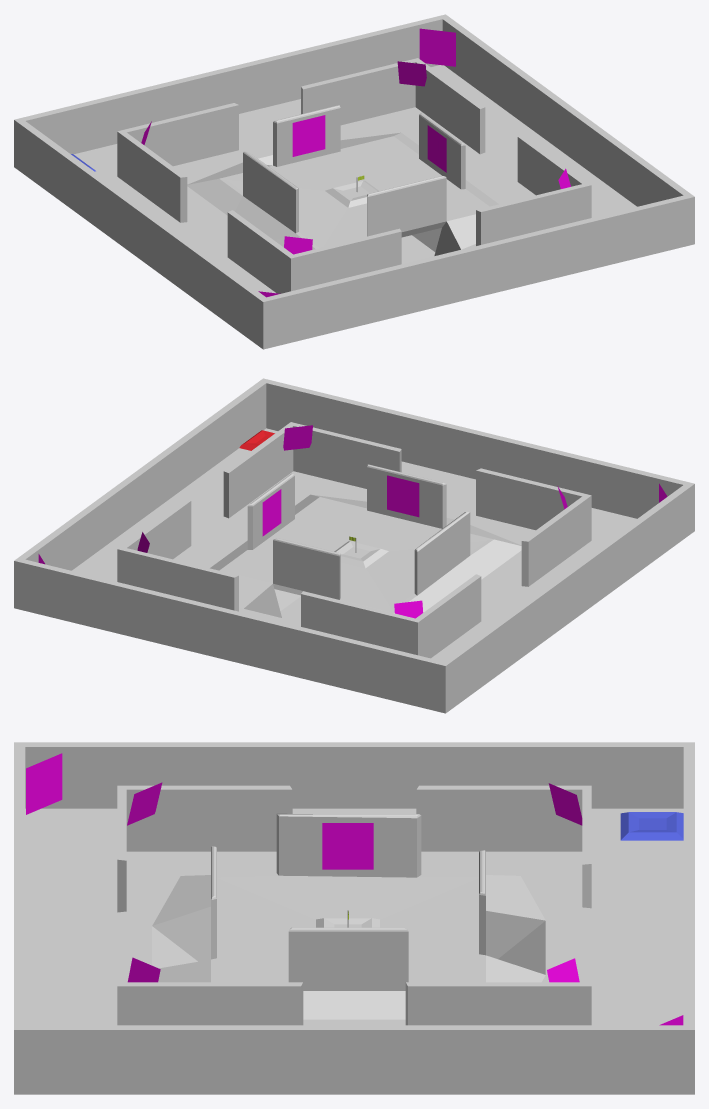
File: module_1.glb
3 renders of one model, top to bottom at view 1: azimuth 30°, elevation 25°; view 2: azimuth 150°, elevation 25°; view 3: azimuth 270°, elevation 25°, orthographic. The views are drawn at different scales.
Parts seen in each view (by area): view 1: SCENE, TUNNEL, MIRROR_0, MIRROR_4, MIRROR_3, MIRROR_7; view 2: SCENE, TUNNEL, MIRROR_5, MIRROR_3, MIRROR_6; view 3: SCENE, TUNNEL, MIRROR_2, SO_SPAWN_T0_INCLUDEMESH, MIRROR_1, MIRROR_8, MIRROR_9, MIRROR_6, MIRROR_7.
Part boxes in pixels (left/top/right/bottom): SCENE: left=14, top=14, right=694, bottom=349; TUNNEL: left=258, top=155, right=460, bottom=263; MIRROR_0: left=419, top=28, right=455, bottom=66; MIRROR_4: left=292, top=115, right=325, bottom=156; MIRROR_3: left=427, top=125, right=446, bottom=172; MIRROR_7: left=397, top=61, right=426, bottom=86; SCENE: left=14, top=378, right=694, bottom=713; TUNNEL: left=244, top=518, right=454, bottom=622; MIRROR_5: left=387, top=475, right=419, bottom=517; MIRROR_3: left=262, top=489, right=281, bottom=536; MIRROR_6: left=283, top=425, right=312, bottom=450; SCENE: left=14, top=742, right=694, bottom=1094; TUNNEL: left=152, top=906, right=545, bottom=974; MIRROR_2: left=322, top=823, right=373, bottom=869; SO_SPAWN_T0_INCLUDEMESH: left=620, top=812, right=683, bottom=840; MIRROR_1: left=26, top=753, right=62, bottom=814; MIRROR_8: left=127, top=782, right=162, bottom=825; MIRROR_9: left=548, top=783, right=582, bottom=825; MIRROR_6: left=127, top=957, right=160, bottom=982; MIRROR_7: left=547, top=958, right=579, bottom=982.
Size of the model in its own units: 26.47 by 6.41 by 26.47.
